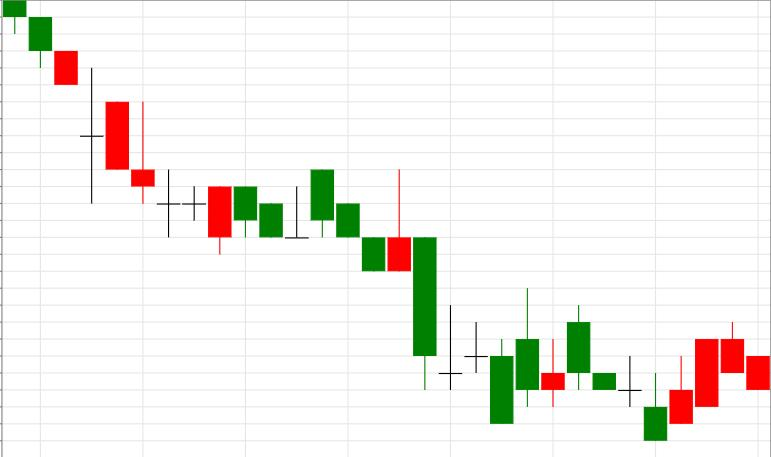inverse_hammer_rise: (311, 170, 411, 272)
